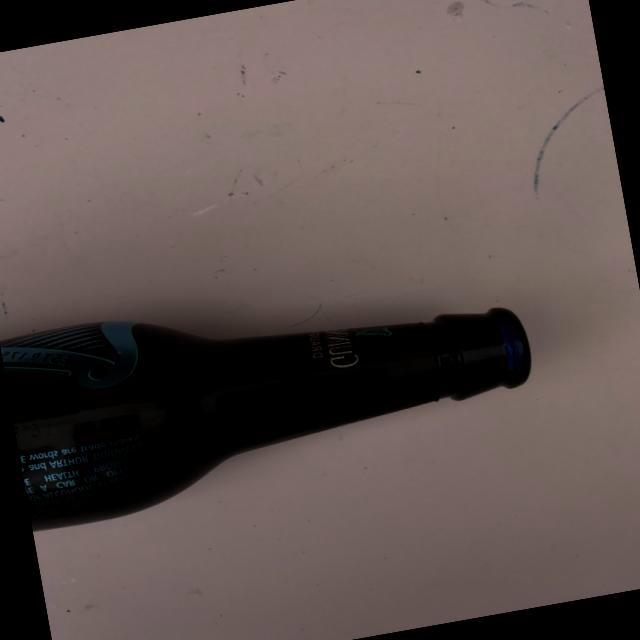glass: (0, 224, 562, 542)
